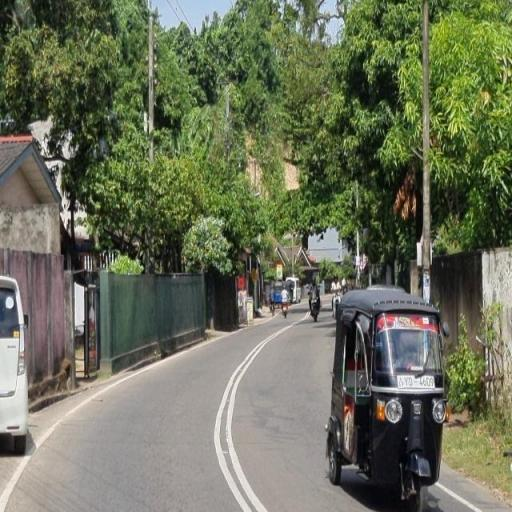double_white_line: (214, 326, 266, 512), (434, 480, 482, 512)
